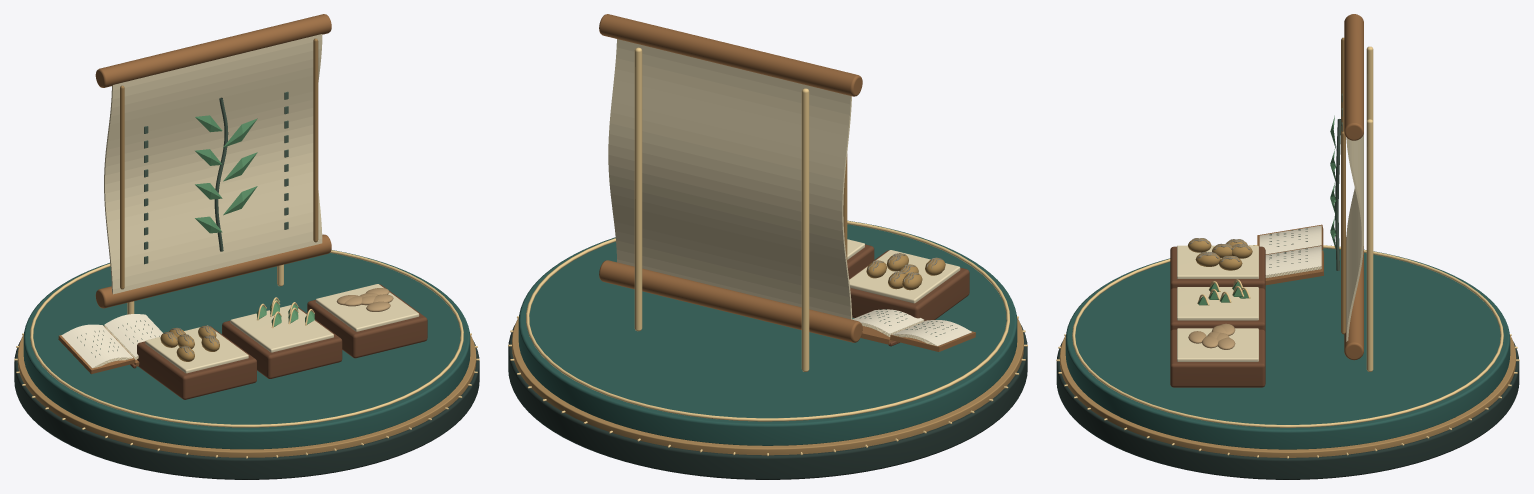
The model's file is wang.glb.
3 views of the same model, side by side, from view 1: azimuth 30°, elevation 25°; view 2: azimuth 150°, elevation 25°; view 3: azimuth 270°, elevation 25° (orthographic). The views are drawn at different scales.
Visible parts, largest first — view 1: architecture__旧书页.003, architecture__深墨玉 · polished jade.005, architecture__玄色石.005, architecture__深色书案.002, architecture__木纹边.002, architecture__旧黄铜.005, architecture__暖金镶线.005, architecture__宣纸.003, architecture__本草叶.001, architecture__墨迹.002, architecture__桃核.001, architecture__夯土层.001; view 2: architecture__深墨玉 · polished jade.005, architecture__旧书页.003, architecture__玄色石.005, architecture__木纹边.002, architecture__暖金镶线.005, architecture__旧黄铜.005, architecture__深色书案.002, architecture__宣纸.003, architecture__桃核.001; view 3: architecture__深墨玉 · polished jade.005, architecture__玄色石.005, architecture__旧书页.003, architecture__旧黄铜.005, architecture__暖金镶线.005, architecture__深色书案.002, architecture__木纹边.002, architecture__宣纸.003, architecture__桃核.001, architecture__墨迹.002, architecture__夯土层.001, architecture__本草叶.001.
Part boxes in pixels (left/top/right/bottom): architecture__旧书页.003: left=93, top=34, right=419, bottom=373; architecture__深墨玉 · polished jade.005: left=23, top=250, right=470, bottom=449; architecture__玄色石.005: left=14, top=340, right=479, bottom=479; architecture__深色书案.002: left=130, top=284, right=427, bottom=399; architecture__木纹边.002: left=58, top=14, right=331, bottom=374; architecture__旧黄铜.005: left=17, top=38, right=476, bottom=457; architecture__暖金镶线.005: left=14, top=250, right=479, bottom=458; architecture__宣纸.003: left=61, top=314, right=162, bottom=368; architecture__本草叶.001: left=195, top=115, right=314, bottom=326; architecture__墨迹.002: left=77, top=91, right=288, bottom=357; architecture__桃核.001: left=160, top=326, right=219, bottom=361; architecture__夯土层.001: left=336, top=288, right=393, bottom=311; architecture__深墨玉 · polished jade.005: left=518, top=220, right=1017, bottom=445; architecture__旧书页.003: left=608, top=39, right=960, bottom=345; architecture__玄色石.005: left=508, top=324, right=1027, bottom=479; architecture__木纹边.002: left=599, top=14, right=975, bottom=351; architecture__暖金镶线.005: left=508, top=47, right=1027, bottom=455; architecture__旧黄铜.005: left=512, top=154, right=1023, bottom=455; architecture__深色书案.002: left=847, top=244, right=969, bottom=346; architecture__宣纸.003: left=852, top=309, right=971, bottom=346; architecture__桃核.001: left=866, top=253, right=945, bottom=290; architecture__深墨玉 · polished jade.005: left=1065, top=245, right=1510, bottom=449; architecture__玄色石.005: left=1056, top=341, right=1519, bottom=479; architecture__旧书页.003: left=1177, top=134, right=1363, bottom=361; architecture__旧黄铜.005: left=1059, top=37, right=1516, bottom=457; architecture__暖金镶线.005: left=1056, top=46, right=1519, bottom=458; architecture__深色书案.002: left=1170, top=246, right=1265, bottom=387; architecture__木纹边.002: left=1257, top=14, right=1363, bottom=360; architecture__宣纸.003: left=1259, top=225, right=1321, bottom=275; architecture__桃核.001: left=1188, top=238, right=1252, bottom=270; architecture__墨迹.002: left=1269, top=93, right=1342, bottom=270; architecture__夯土层.001: left=1188, top=323, right=1235, bottom=349; architecture__本草叶.001: left=1198, top=115, right=1336, bottom=305.
Bounding box in the file's own units: 3.5 × 2.62 × 3.5.
